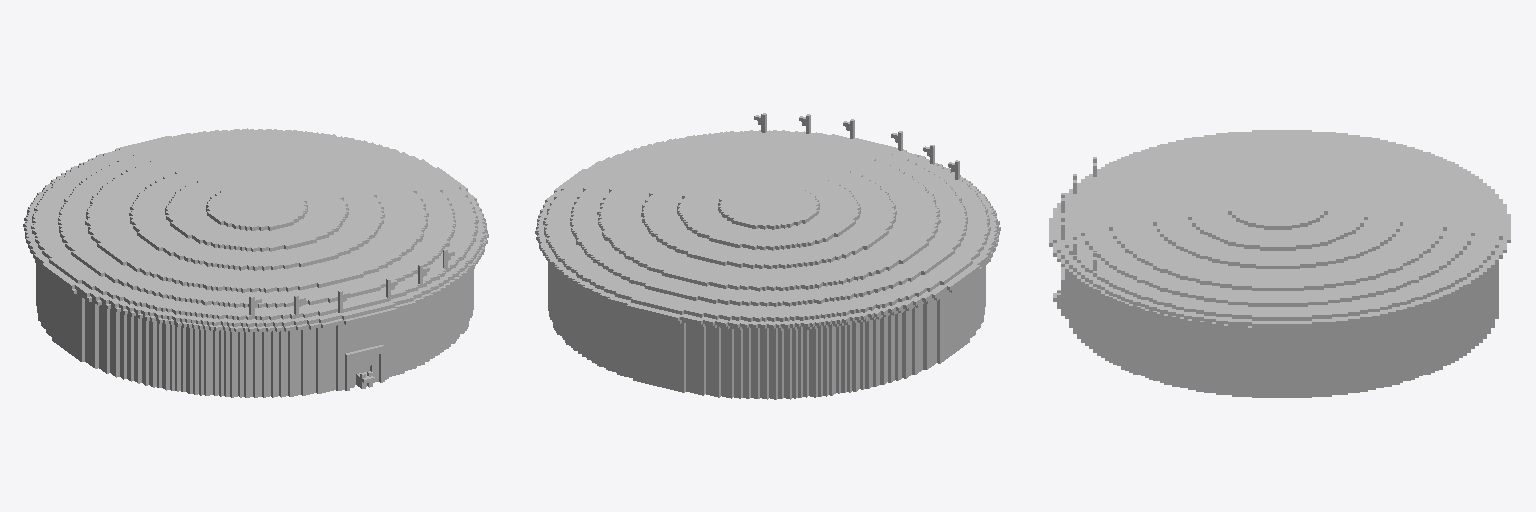
Rendered from arena.obj.
3 views of the same model, side by side, from view 1: azimuth 30°, elevation 25°; view 2: azimuth 150°, elevation 25°; view 3: azimuth 270°, elevation 25° (orthographic).
Parts seen in each view (by area): view 1: arena; view 2: arena; view 3: arena.
Part boxes in pixels (left/top/right/bottom): arena: left=23, top=128, right=488, bottom=397; arena: left=535, top=113, right=1000, bottom=399; arena: left=1049, top=130, right=1510, bottom=397.
Size of the model in its own units: 115 by 28 by 116.